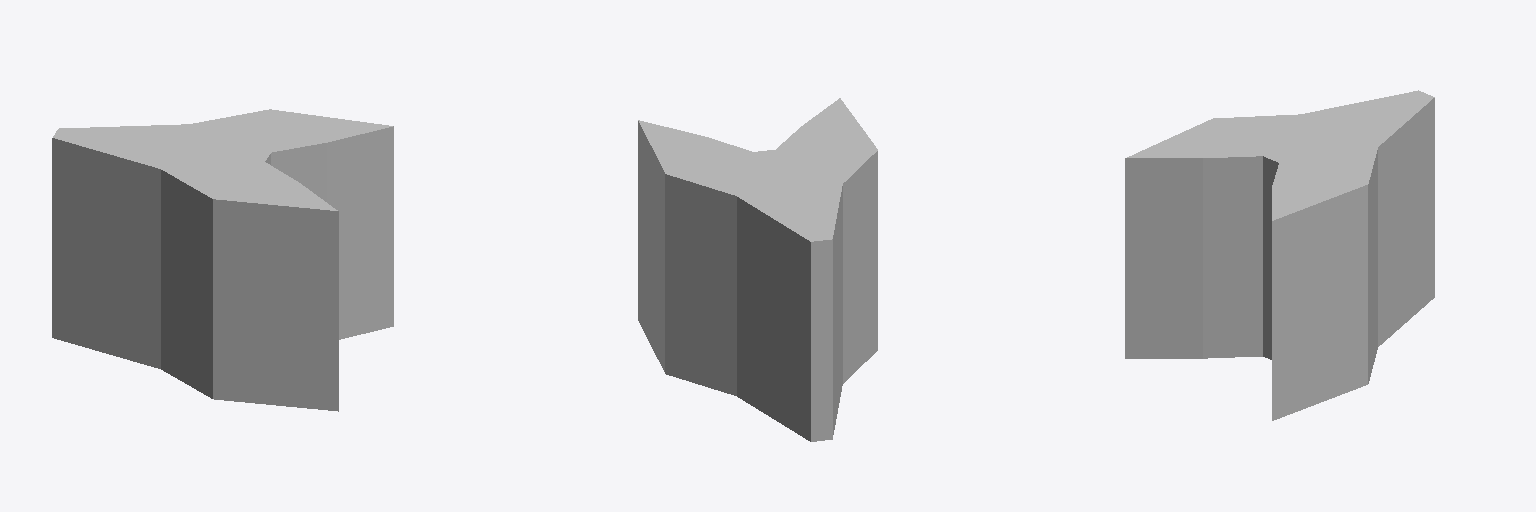
File: wall_spike_large_diagonal.obj
The picture shows the model from 3 angles: view 1: azimuth 30°, elevation 25°; view 2: azimuth 150°, elevation 25°; view 3: azimuth 270°, elevation 25°; orthographic projection.
Parts seen in each view (by area): view 1: cuboid; view 2: cuboid; view 3: cuboid.
Part boxes in pixels (x1,y1,x2,y2): cuboid: (52, 109, 393, 411); cuboid: (638, 98, 877, 441); cuboid: (1125, 90, 1434, 420).
Bounding box in the file's own units: 1.41 × 1 × 1.41.